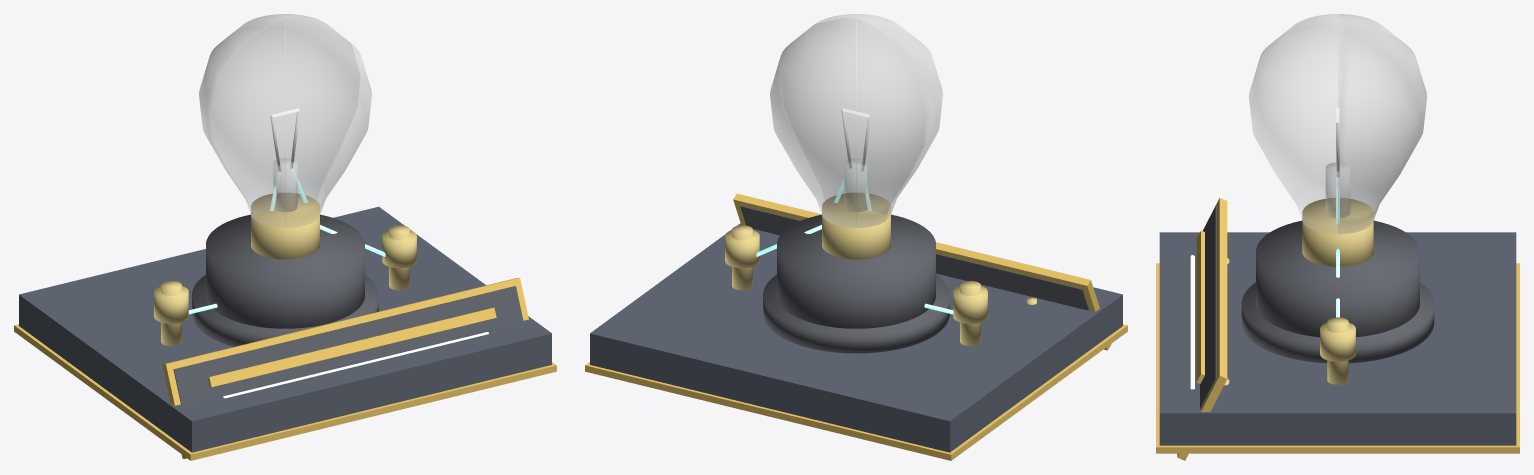
The model's file is bulb.glb.
3 views of the same model, side by side, from view 1: azimuth 30°, elevation 25°; view 2: azimuth 150°, elevation 25°; view 3: azimuth 270°, elevation 25° (orthographic). The views are drawn at different scales.
Visible parts, largest first — view 1: bulb_full_plinth, bulb_full_globe, bulb_sec_globe, bulb_full_socket_body, bulb_sec_plaque_face, bulb_full_plinth_rim, bulb_full_screw_base, bulb_sec_plaque_trim, bulb_sec_title_bar, bulb_full_socket_rim, bulb_full_nut_left, bulb_full_glass_stem (+4 smaller); view 2: bulb_full_plinth, bulb_full_globe, bulb_sec_globe, bulb_full_socket_body, bulb_full_socket_rim, bulb_full_plinth_rim, bulb_full_screw_base, bulb_sec_plaque_face, bulb_sec_plaque_trim, bulb_full_nut_left, bulb_full_nut_right, bulb_full_post_right (+1 smaller); view 3: bulb_full_plinth, bulb_full_globe, bulb_sec_globe, bulb_full_socket_body, bulb_full_socket_rim, bulb_full_plinth_rim, bulb_full_screw_base, bulb_sec_plaque_trim, bulb_sec_plaque_face, bulb_sec_title_bar, bulb_full_nut_right, bulb_full_post_right (+2 smaller).
Boxes of the visible parts, x1,y1,x2,y2 form: bulb_full_plinth: [19, 206, 551, 452]; bulb_full_globe: [199, 14, 371, 227]; bulb_sec_globe: [199, 14, 359, 219]; bulb_full_socket_body: [206, 214, 364, 328]; bulb_sec_plaque_face: [173, 286, 523, 404]; bulb_full_plinth_rim: [14, 324, 556, 460]; bulb_full_screw_base: [251, 193, 319, 259]; bulb_sec_plaque_trim: [162, 277, 528, 458]; bulb_sec_title_bar: [207, 307, 496, 387]; bulb_full_socket_rim: [192, 274, 378, 346]; bulb_full_nut_left: [154, 286, 188, 323]; bulb_full_glass_stem: [275, 161, 297, 211]; bulb_full_plinth: [590, 223, 1122, 452]; bulb_full_globe: [770, 14, 942, 227]; bulb_sec_globe: [770, 18, 931, 227]; bulb_full_socket_body: [777, 214, 935, 328]; bulb_full_socket_rim: [763, 274, 949, 353]; bulb_full_plinth_rim: [585, 324, 1127, 460]; bulb_full_screw_base: [822, 193, 890, 259]; bulb_sec_plaque_face: [740, 205, 1089, 310]; bulb_sec_plaque_trim: [733, 193, 1111, 350]; bulb_full_nut_left: [953, 286, 987, 323]; bulb_full_nut_right: [725, 230, 759, 268]; bulb_full_post_right: [732, 225, 752, 290]; bulb_full_plinth: [1159, 232, 1516, 445]; bulb_full_globe: [1249, 14, 1426, 233]; bulb_sec_globe: [1338, 14, 1426, 233]; bulb_full_socket_body: [1256, 220, 1419, 337]; bulb_full_socket_rim: [1241, 282, 1434, 363]; bulb_full_plinth_rim: [1156, 263, 1519, 453]; bulb_full_screw_base: [1302, 198, 1373, 266]; bulb_sec_plaque_trim: [1177, 198, 1227, 460]; bulb_sec_plaque_face: [1200, 206, 1216, 408]; bulb_sec_title_bar: [1196, 230, 1204, 383]; bulb_full_nut_right: [1320, 322, 1355, 361]; bulb_full_post_right: [1327, 317, 1348, 384].
Size of the model in its own units: 0.122 by 0.1092 by 0.102.
